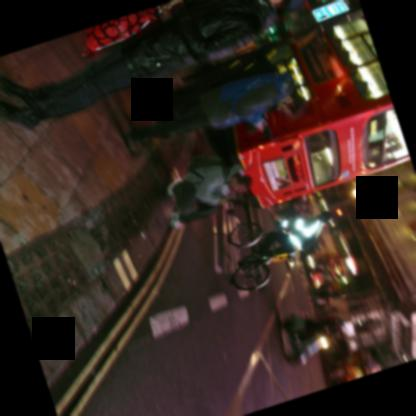backpack: (210, 49, 277, 86), (209, 149, 229, 181), (184, 156, 215, 171)
